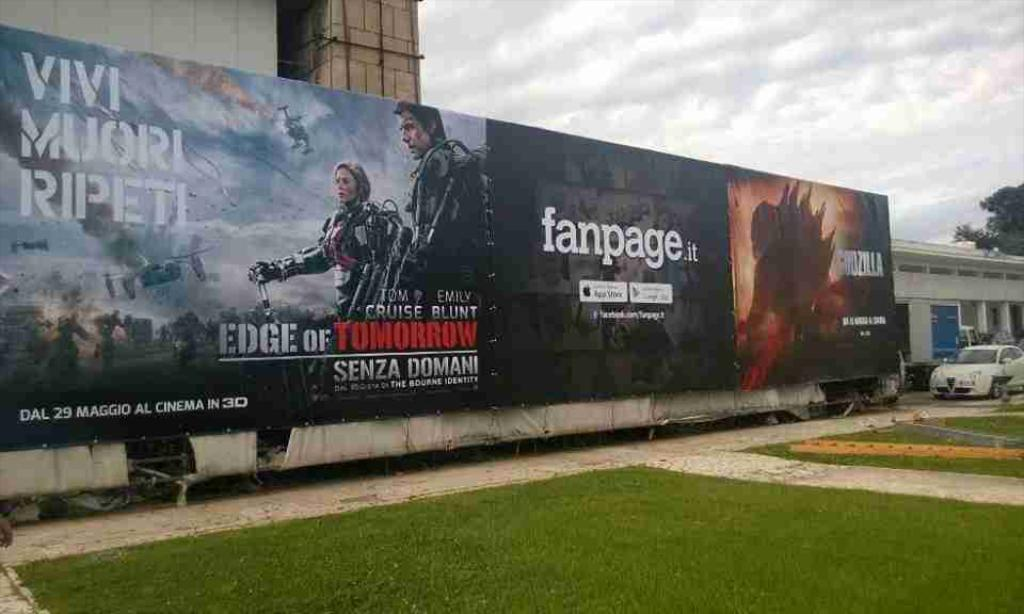Person: (246, 155, 422, 326), (392, 101, 476, 318)
